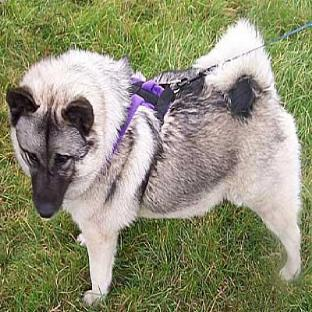Animal: (6, 19, 301, 303)
